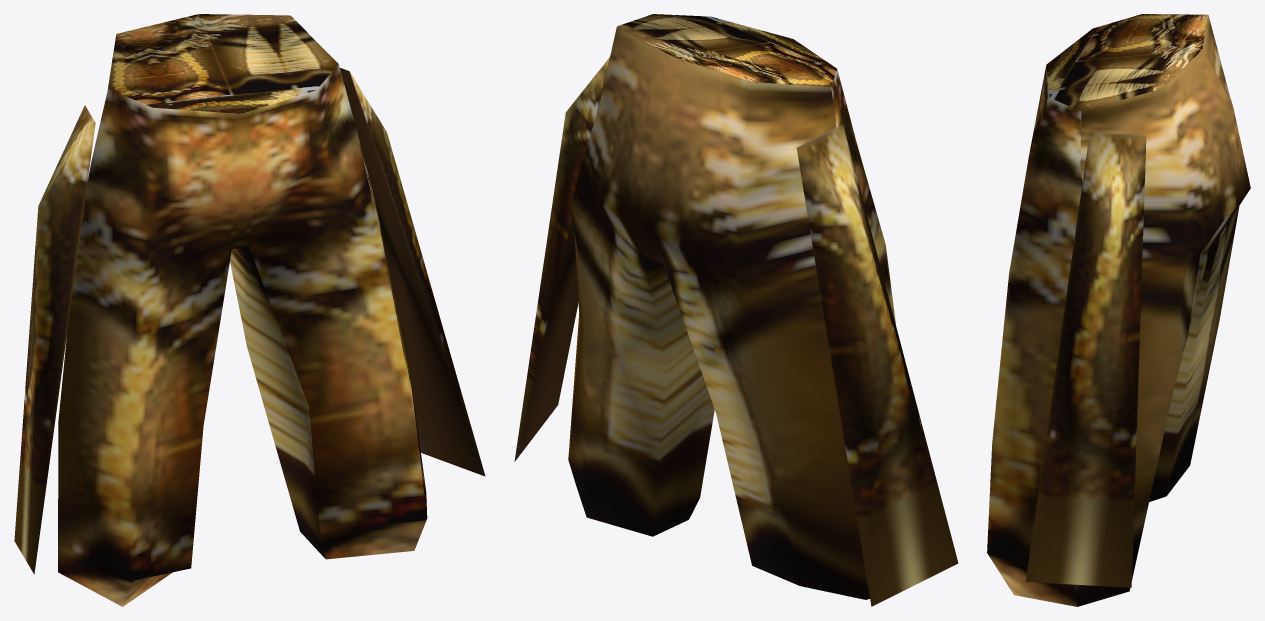
3 renders of one model, left to right at view 1: azimuth 30°, elevation 25°; view 2: azimuth 150°, elevation 25°; view 3: azimuth 270°, elevation 25°, orthographic. The views are drawn at different scales.
Visible parts, largest first — view 1: PantMale01; view 2: PantMale01; view 3: PantMale01.
Part boxes in pixels (left/top/right/bottom): PantMale01: left=14, top=14, right=485, bottom=606; PantMale01: left=514, top=14, right=958, bottom=606; PantMale01: left=987, top=14, right=1250, bottom=606.
Bounding box in the file's own units: 57.98 × 68.74 × 32.43.
Materials: 2 (2 with a texture image).
